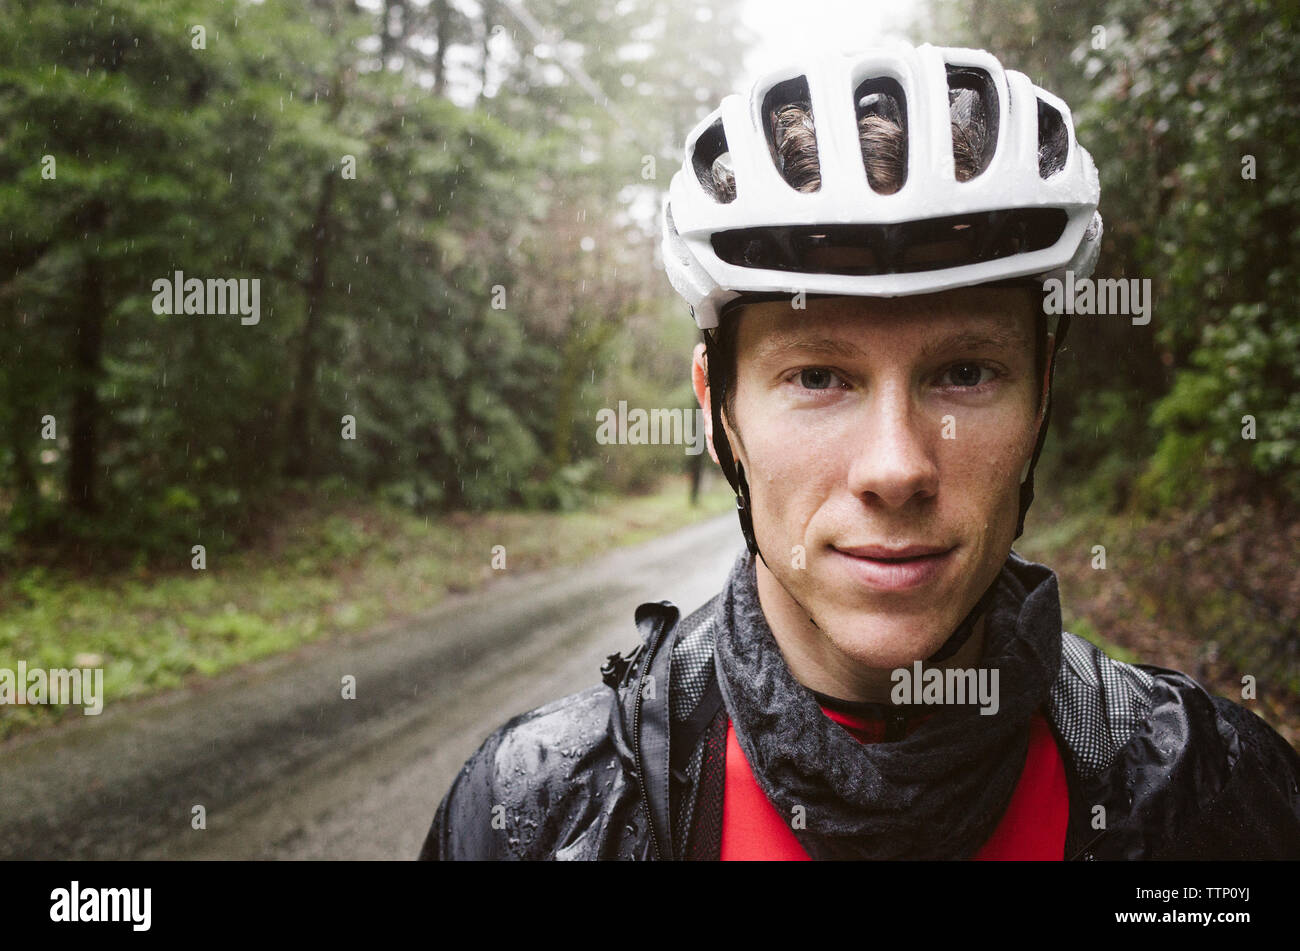helmet: (659, 43, 1104, 668)
